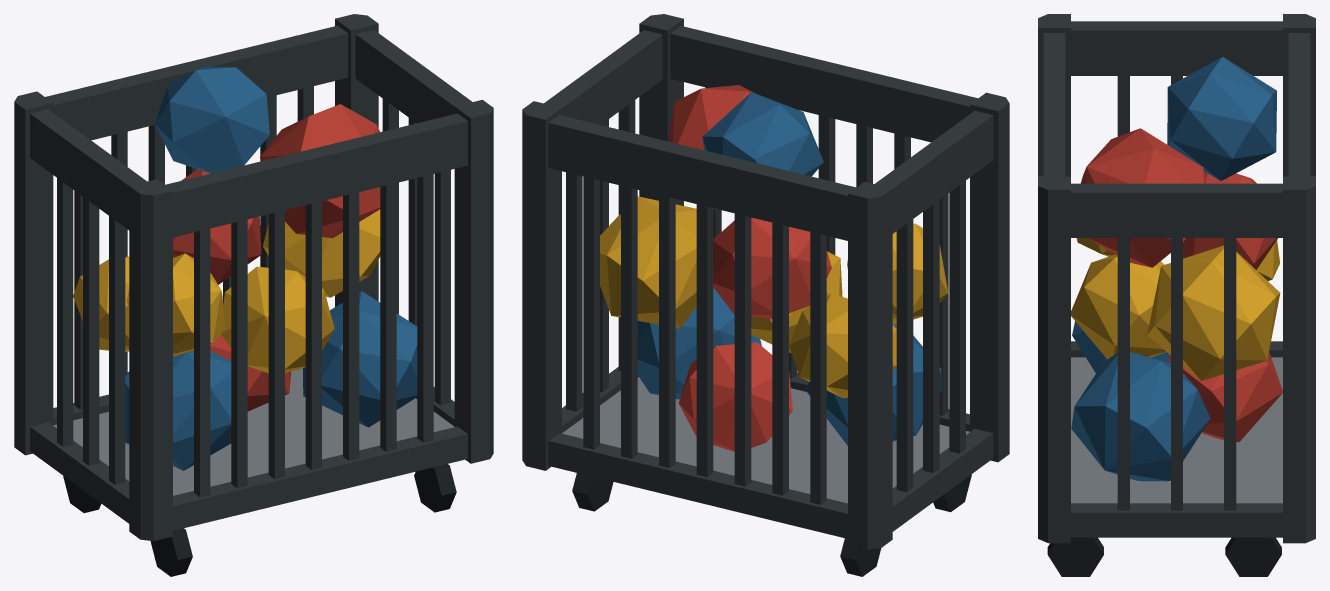
The model's file is ball-bin-3198fe.glb.
3 renders of one model, left to right at view 1: azimuth 30°, elevation 25°; view 2: azimuth 150°, elevation 25°; view 3: azimuth 270°, elevation 25°, orthographic. The views are drawn at different scales.
Parts seen in each view (by area): view 1: bin, ball-mesh, wheel-mesh-wheel-fl, wheel-mesh-wheel-fr, wheel-mesh-wheel-rr; view 2: bin, ball-mesh, wheel-mesh-wheel-rl, wheel-mesh-wheel-rr, wheel-mesh-wheel-fr; view 3: bin, ball-mesh, wheel-mesh-wheel-rl, wheel-mesh-wheel-fl.
Boxes of the visible parts, bbox=[...] form: bin: bbox=[14, 14, 493, 541]; ball-mesh: bbox=[155, 67, 269, 173]; wheel-mesh-wheel-fl: bbox=[414, 464, 456, 512]; wheel-mesh-wheel-fr: bbox=[150, 528, 192, 576]; wheel-mesh-wheel-rr: bbox=[63, 476, 101, 512]; bin: bbox=[522, 14, 1009, 549]; ball-mesh: bbox=[702, 92, 823, 176]; wheel-mesh-wheel-rl: bbox=[572, 473, 613, 511]; wheel-mesh-wheel-rr: bbox=[840, 538, 881, 576]; wheel-mesh-wheel-fr: bbox=[933, 474, 971, 512]; bin: bbox=[1038, 14, 1315, 543]; ball-mesh: bbox=[1167, 56, 1276, 180]; wheel-mesh-wheel-rl: bbox=[1225, 537, 1281, 576]; wheel-mesh-wheel-fl: bbox=[1047, 537, 1103, 576].
Size of the model in its own units: 0.75 by 0.8598 by 0.5.
